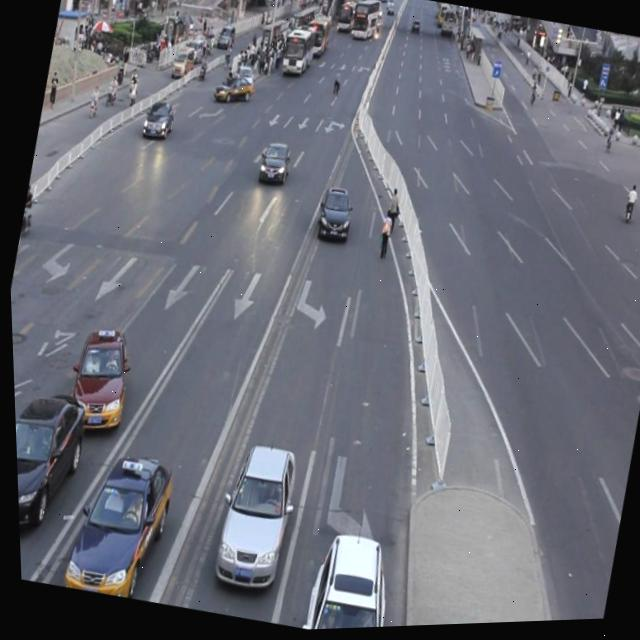car: (54, 439, 177, 605), (201, 434, 303, 599), (11, 376, 91, 538), (294, 523, 401, 632), (59, 321, 137, 439), (309, 183, 355, 249), (253, 140, 294, 191), (136, 96, 178, 145)
